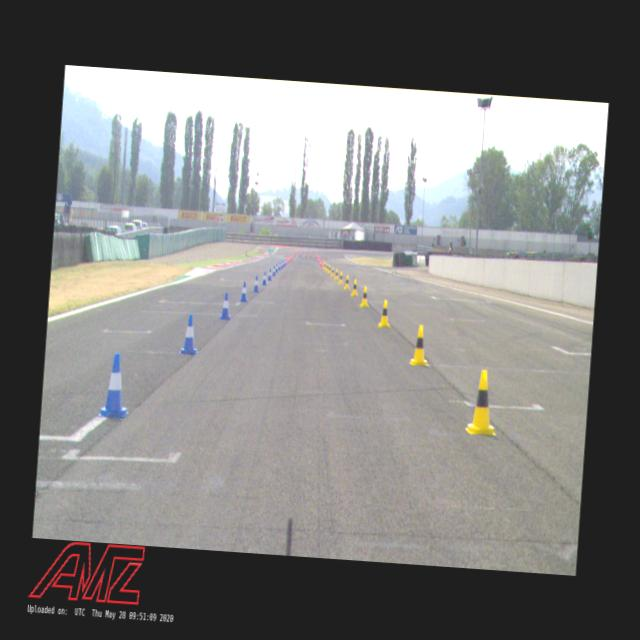blue_cone: (98, 352, 133, 419), (179, 314, 200, 356), (218, 292, 232, 321), (239, 280, 249, 302), (252, 276, 260, 292), (261, 271, 268, 286), (267, 268, 272, 281), (272, 265, 276, 276), (274, 263, 278, 273), (277, 261, 280, 270)
large_orange_cone: (299, 250, 301, 257), (304, 251, 306, 257), (310, 252, 312, 258)
yellow_cone: (464, 368, 500, 437), (408, 324, 431, 366), (378, 298, 392, 328), (359, 286, 369, 308), (350, 278, 359, 296), (343, 274, 350, 290), (338, 271, 343, 285), (334, 268, 338, 280), (330, 266, 334, 278), (327, 264, 331, 274), (326, 263, 328, 272)
